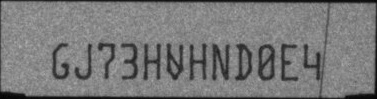0: (257, 42, 275, 81)
3: (120, 42, 138, 80)
4: (303, 43, 320, 81)
7: (97, 42, 115, 79)
D: (234, 42, 252, 81)
E: (279, 44, 297, 82)
G: (52, 41, 71, 79)
H: (142, 42, 161, 80), (189, 42, 207, 81)
J: (75, 43, 93, 80)
N: (213, 41, 230, 81)
V: (165, 42, 183, 81)
